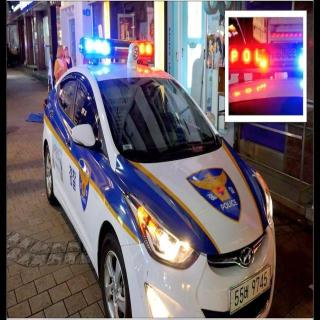Police_car: (43, 40, 276, 320)
